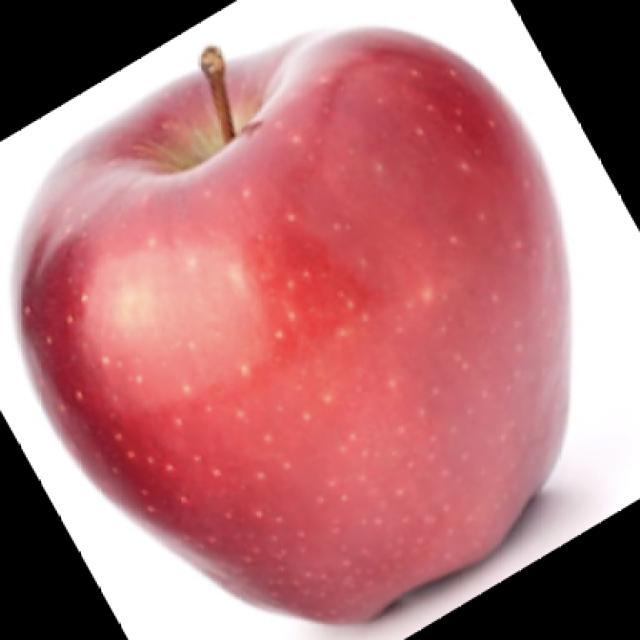Fresh Apple: (92, 48, 588, 635)
